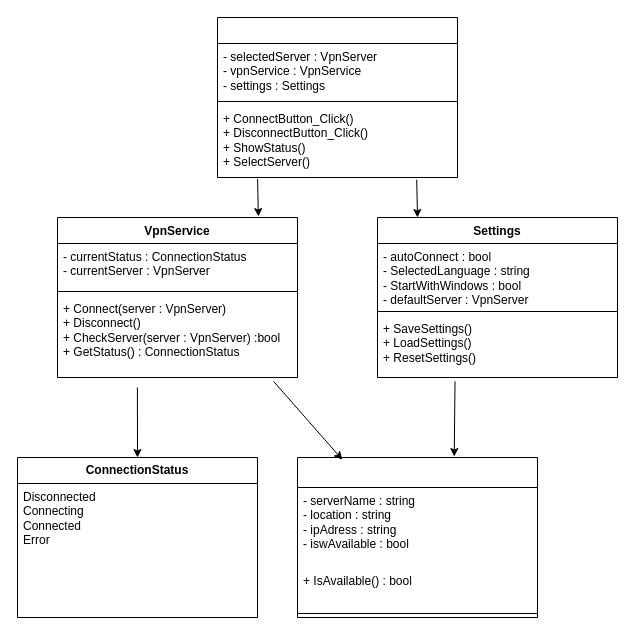
This 635x638 diagram has some shape labels left out. The box of each missing label's shape, as (x1, y1, x2, y2) in pixels:
MainWindow: (216, 16, 458, 178)
VpnServer: (296, 456, 538, 618)
